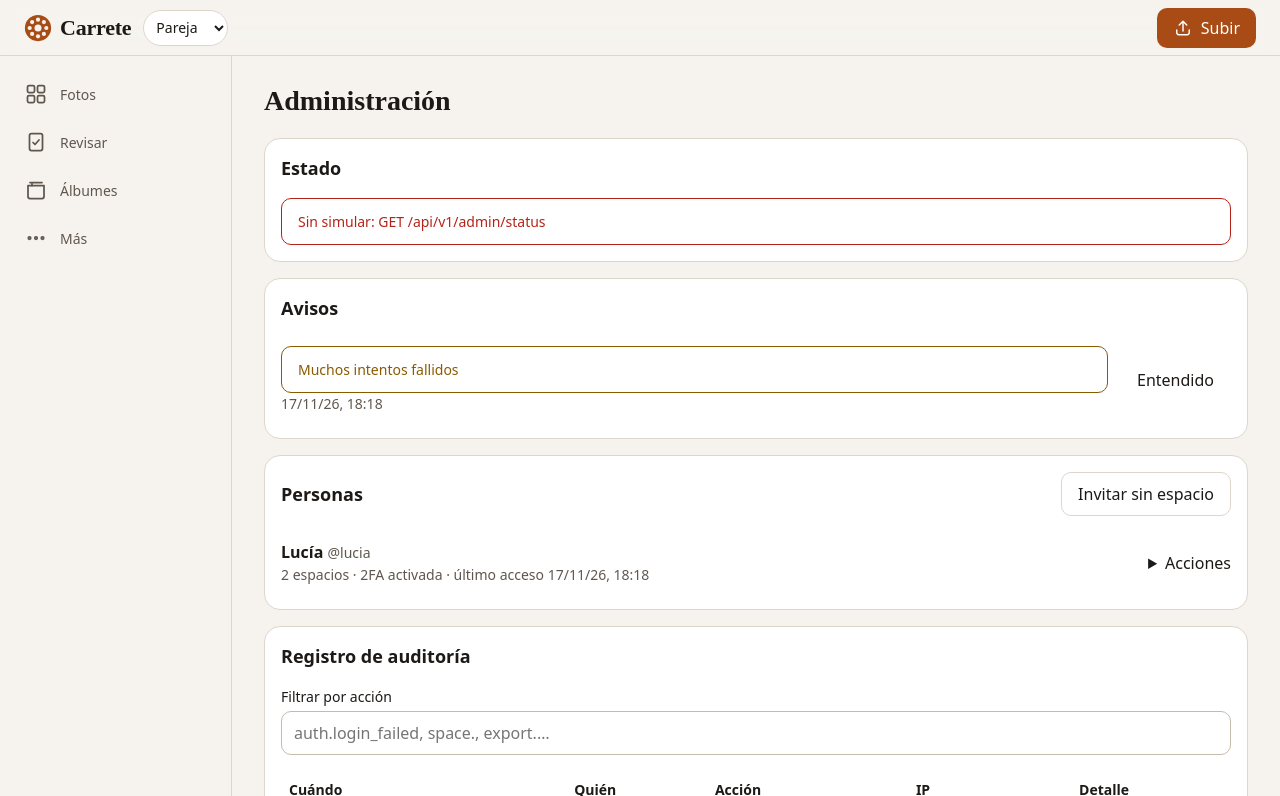
Test: administración › lista personas, avisos y auditoría
Check: the text "Muchos intentos fallidos" is shown, box [281, 346, 1108, 393]
Click the button "Entendido" at (1176, 380), box [1120, 358, 1231, 402]
(page scrolled)
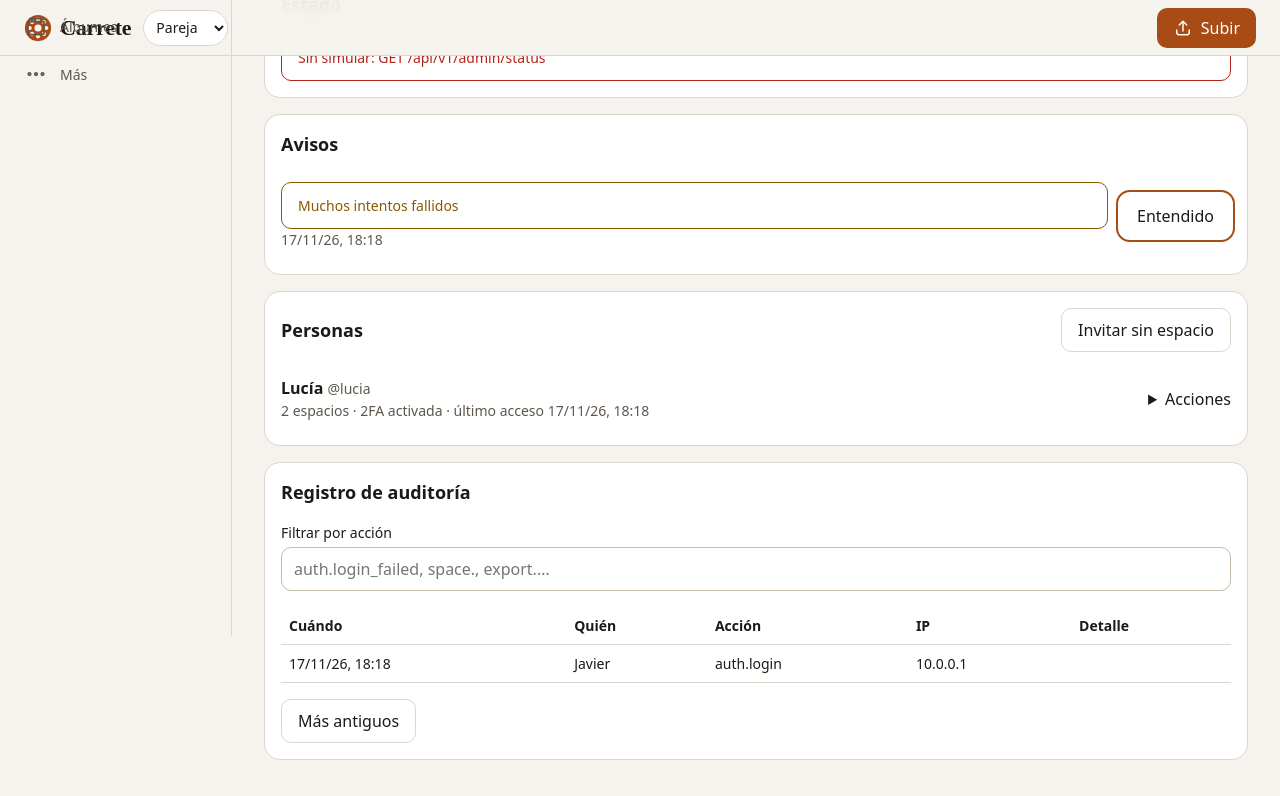
Check: the text "auth.login" is shown, box [707, 644, 908, 682]
Click the button "Más antiguos" at (349, 721), box [281, 699, 416, 743]
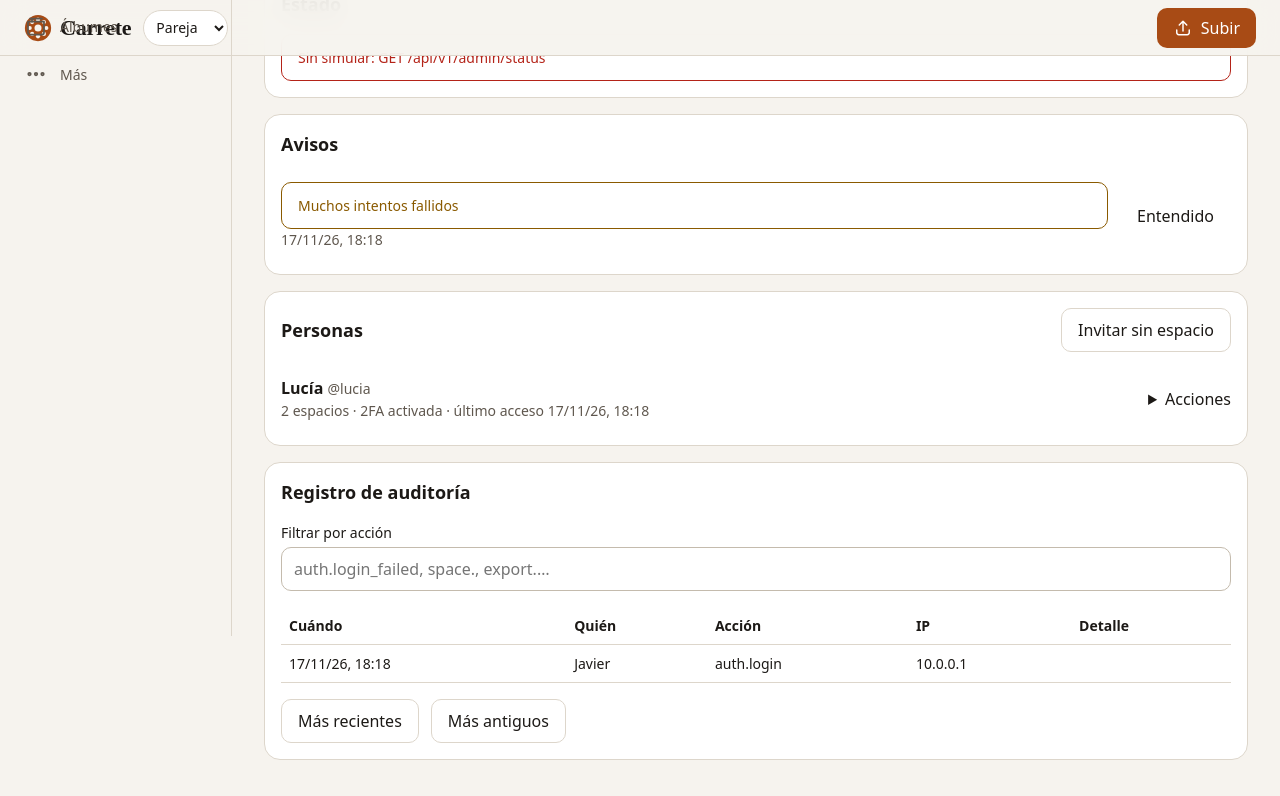
Click the heading "Acciones" at (1198, 398), box [1165, 388, 1231, 410]
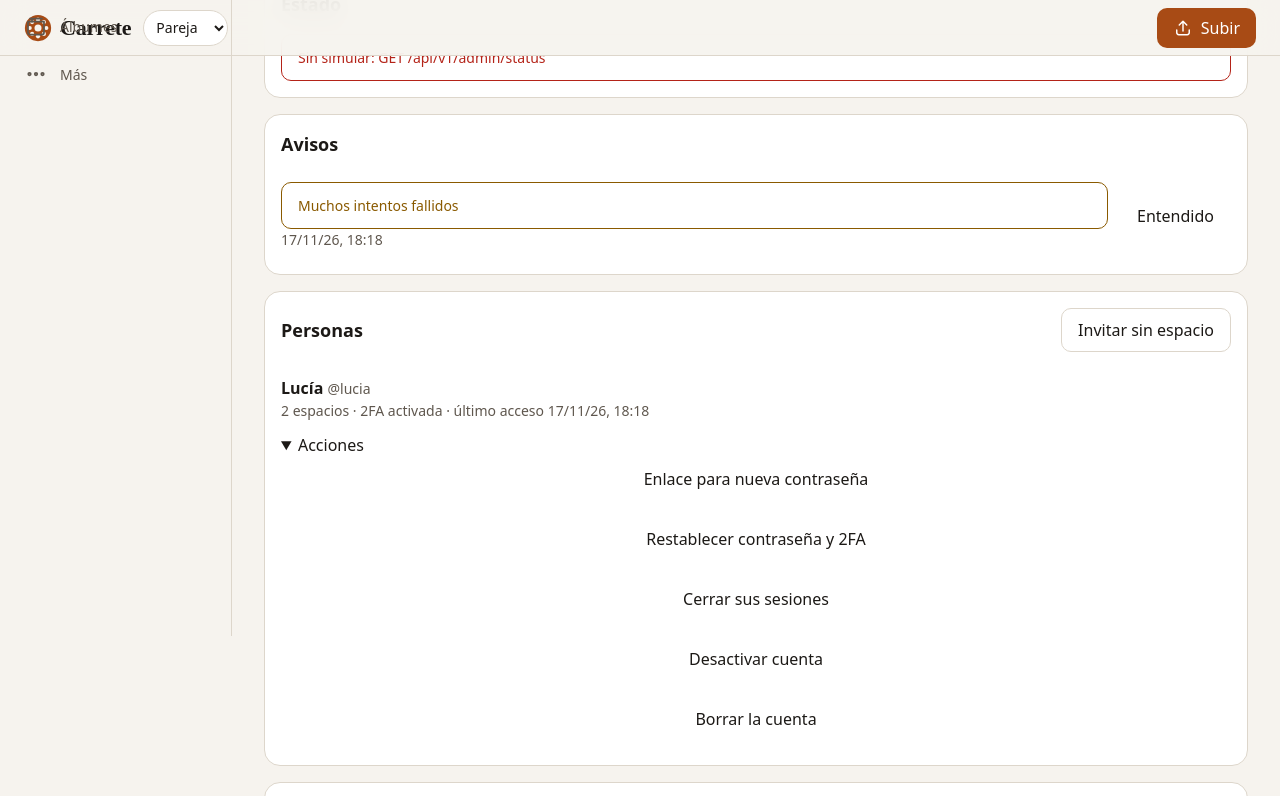
Click the button "Restablecer contraseña y 2FA" at (756, 539), box [281, 517, 1231, 561]
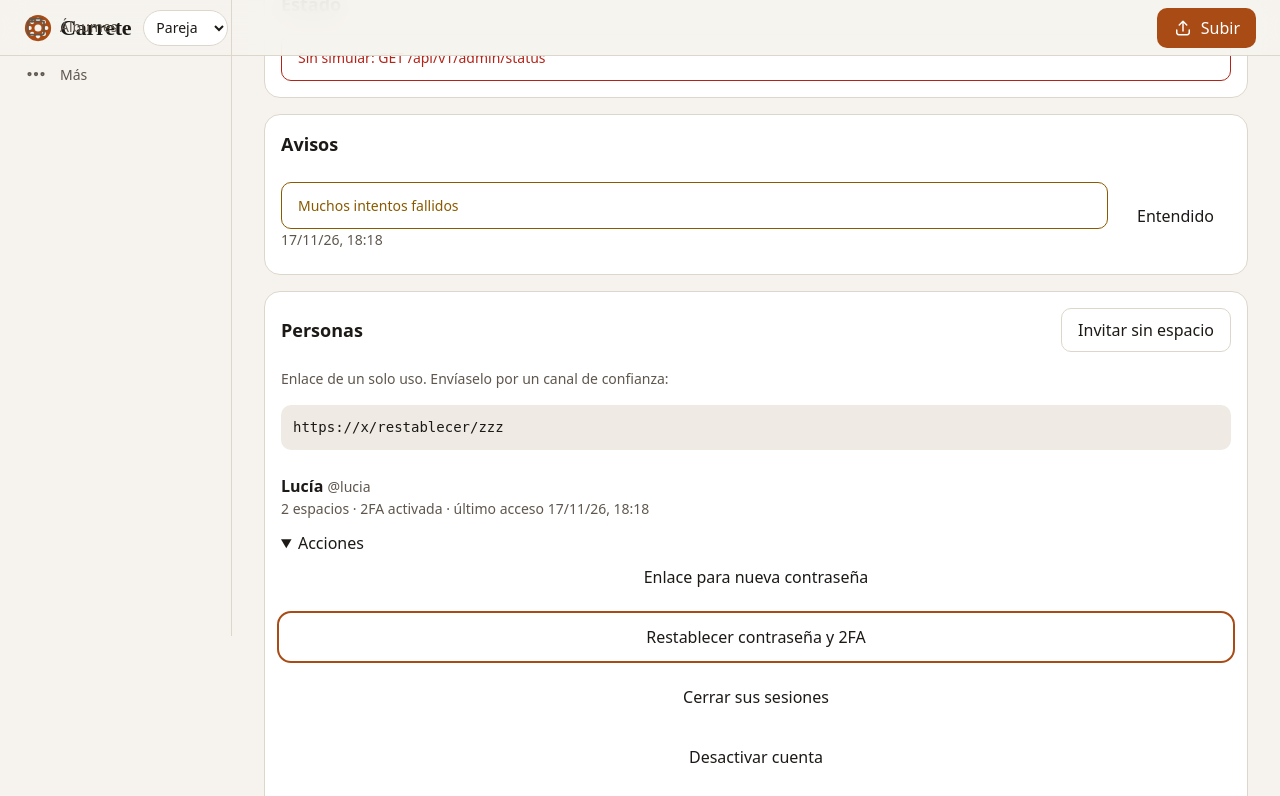
Check: the text "https://x/restablecer/zzz" is shown, box [281, 405, 1231, 450]
Click the button "Desactivar cuenta" at (756, 757), box [281, 735, 1231, 779]
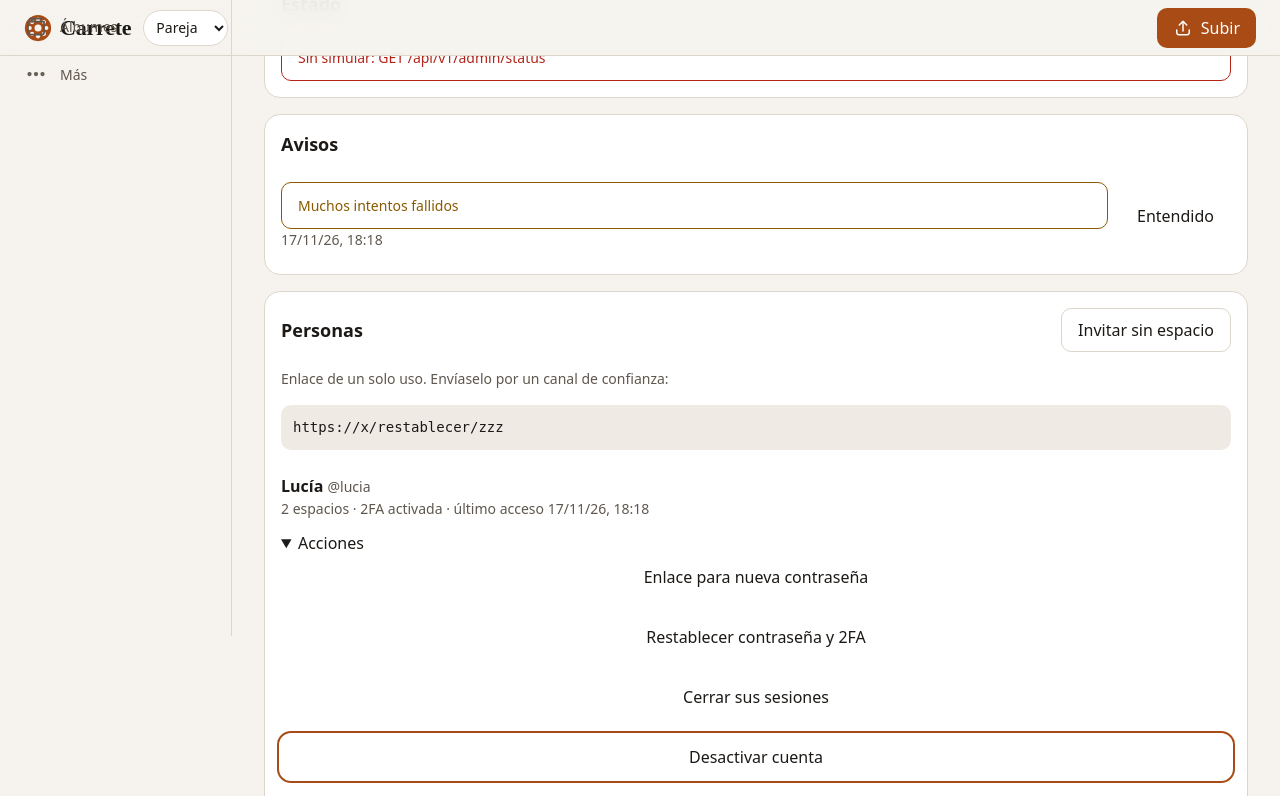
Click the button "Invitar sin espacio" at (1146, 330), box [1061, 308, 1231, 352]
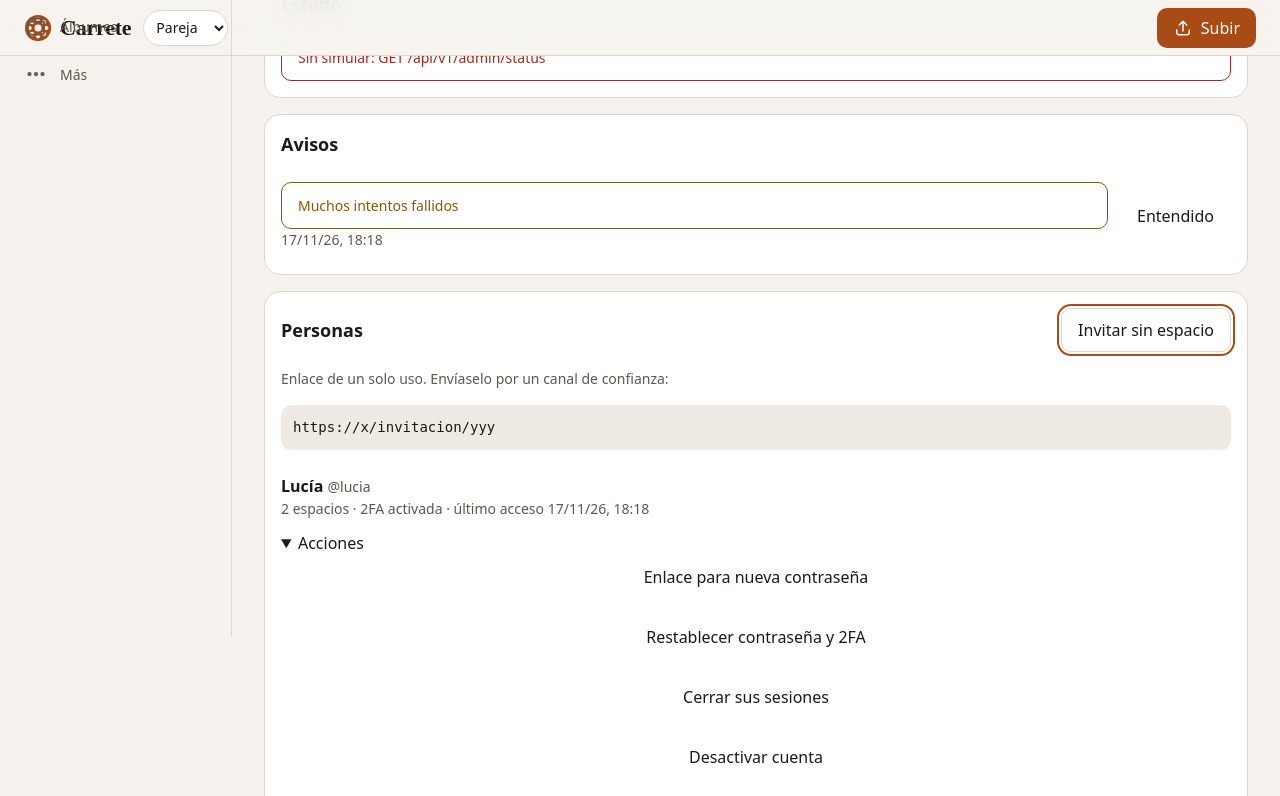
Check: the text "https://x/invitacion/yyy" is shown, box [281, 405, 1231, 450]
